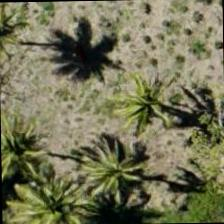Kelapa_Sawit: (103, 52, 195, 144), (64, 127, 156, 219), (1, 152, 91, 223), (0, 104, 60, 196)
